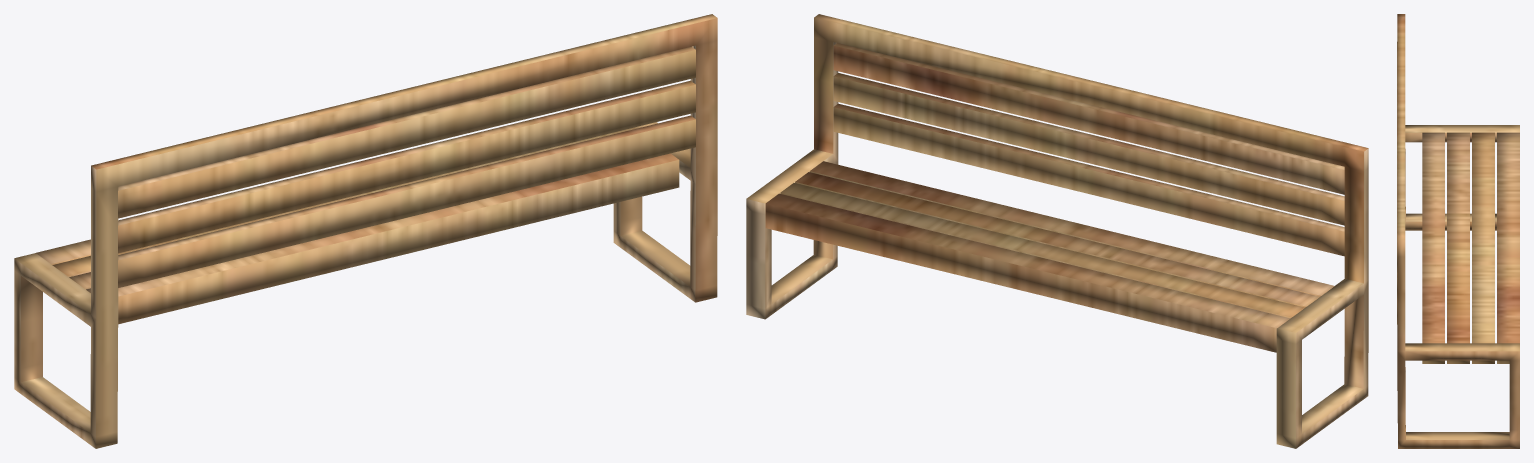
File: bench.obj
3 views of the same model, side by side, from view 1: azimuth 30°, elevation 25°; view 2: azimuth 150°, elevation 25°; view 3: azimuth 270°, elevation 25° (orthographic). The views are drawn at different scales.
Parts seen in each view (by area): view 1: Bench; view 2: Bench; view 3: Bench.
Part boxes in pixels (x1,y1,x2,y2): Bench: (14, 14, 717, 448); Bench: (746, 14, 1368, 448); Bench: (1397, 14, 1519, 448).
Bounding box in the file's own units: 140 × 60.36 × 32.18.
Materials: 1 (1 with a texture image).
